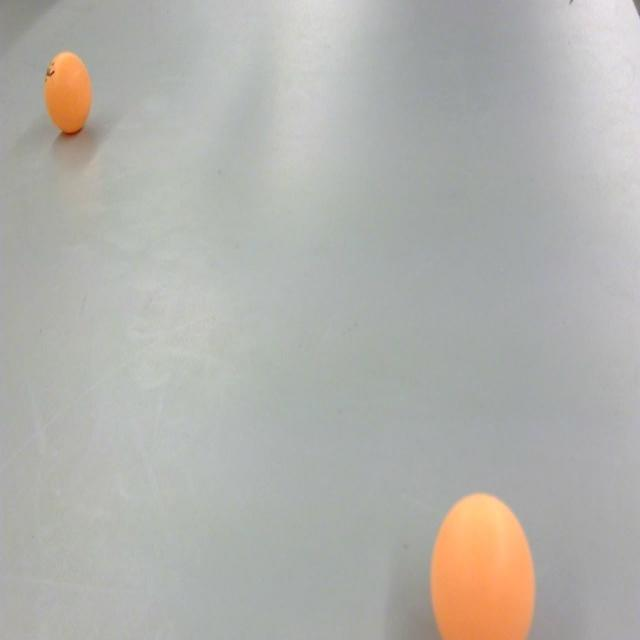ball: (427, 490, 537, 640), (42, 48, 93, 138)
